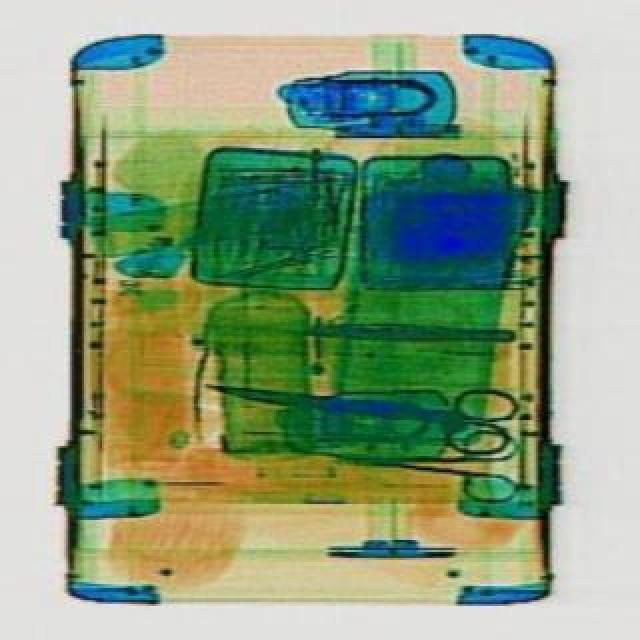pliers: (196, 348, 518, 456), (346, 422, 514, 500)
